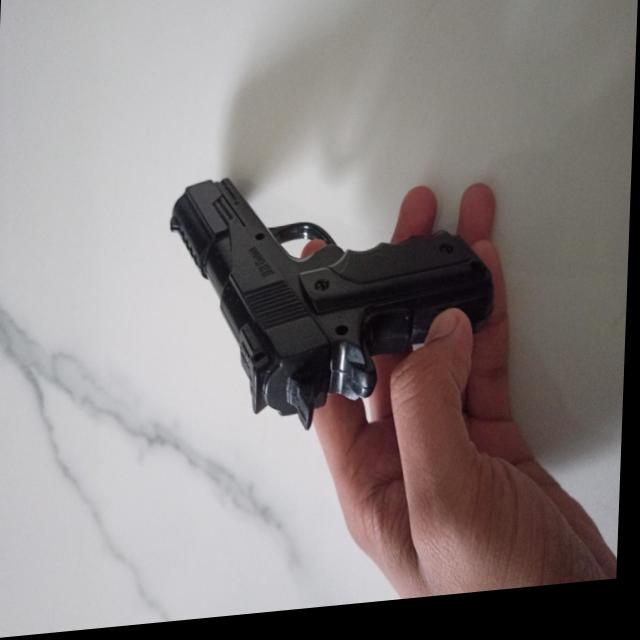handgun: (163, 157, 503, 446)
